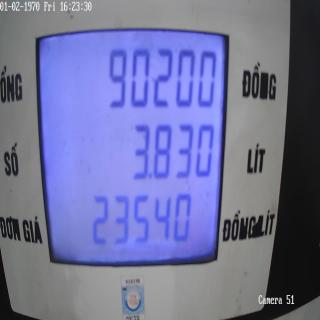screen: (33, 9, 233, 274)
